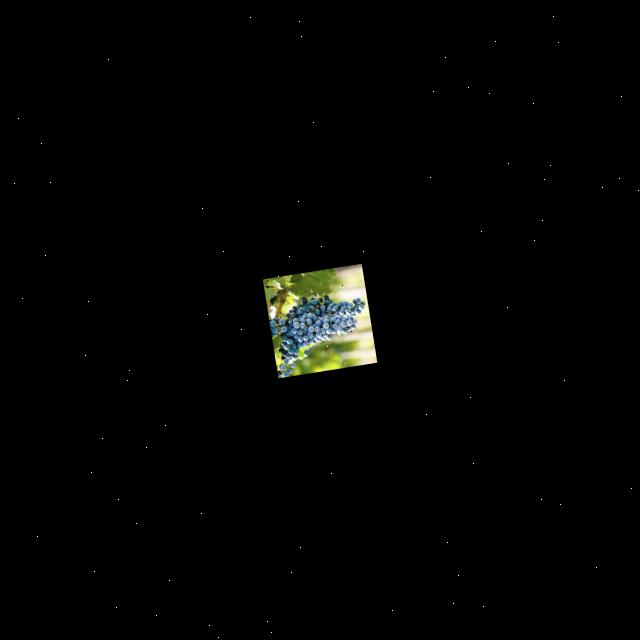grape: (266, 287, 374, 377)
